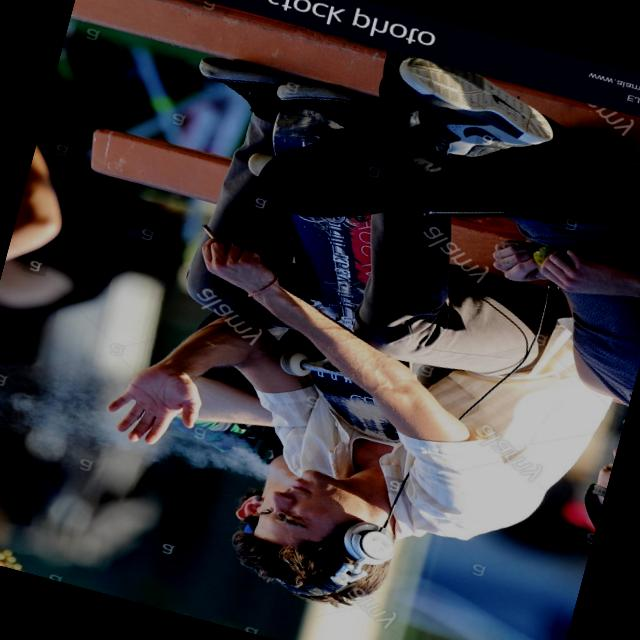smoke: (198, 224, 217, 241)
